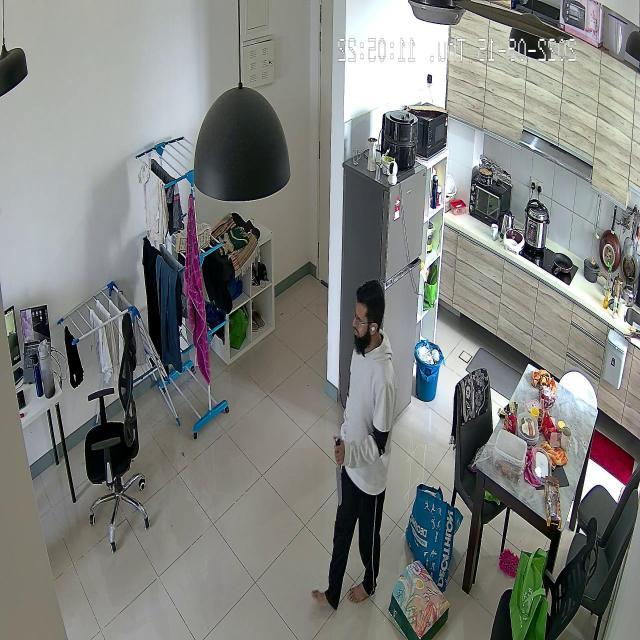Knife: (328, 432, 351, 514)
